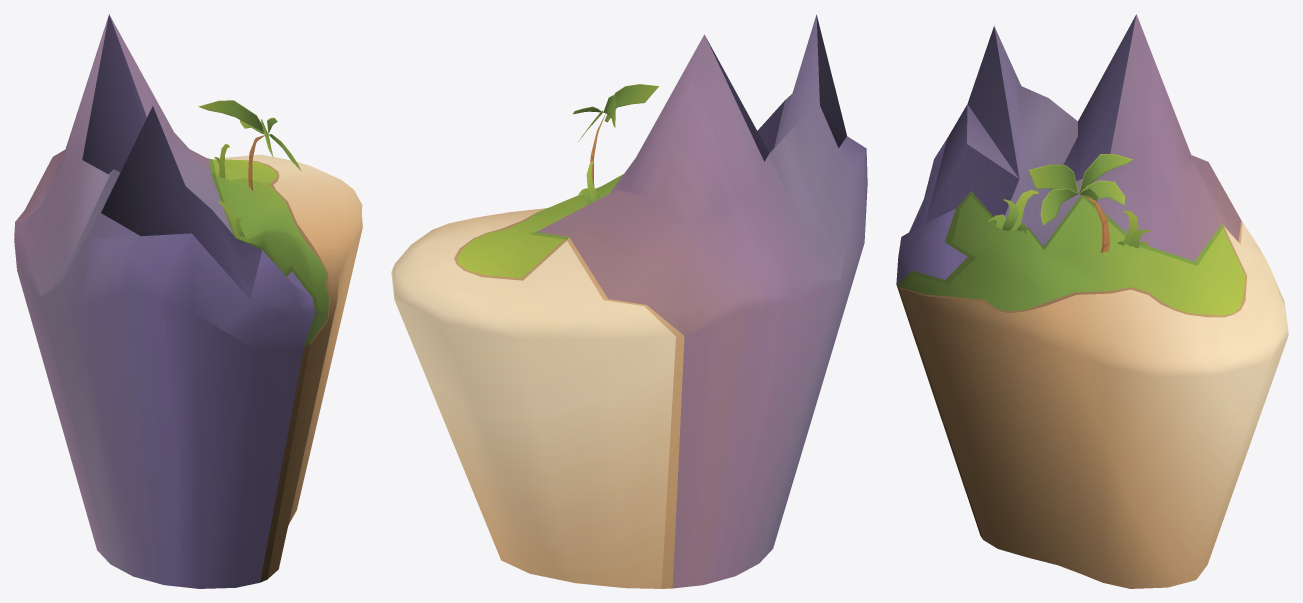
Rendered from island.glb.
The picture shows the model from 3 angles, left to right: view 1: azimuth 30°, elevation 25°; view 2: azimuth 150°, elevation 25°; view 3: azimuth 270°, elevation 25°; orthographic projection. The views are drawn at different scales.
Parts seen in each view (by area): view 1: Icosphere, Plane.005; view 2: Icosphere, Plane.005; view 3: Icosphere, Plane.005, Plane.006, Plane.007.
Boxes of the visible parts, left/top/right/bottom form: Icosphere: left=14, top=14, right=362, bottom=588; Plane.005: left=198, top=100, right=301, bottom=171; Icosphere: left=391, top=14, right=867, bottom=588; Plane.005: left=573, top=84, right=658, bottom=141; Icosphere: left=896, top=14, right=1288, bottom=588; Plane.005: left=1028, top=154, right=1133, bottom=225; Plane.006: left=988, top=189, right=1038, bottom=233; Plane.007: left=1117, top=210, right=1151, bottom=248.
Size of the model in its own units: 1.44 by 1.99 by 1.44.
1 material, 1 textured.
